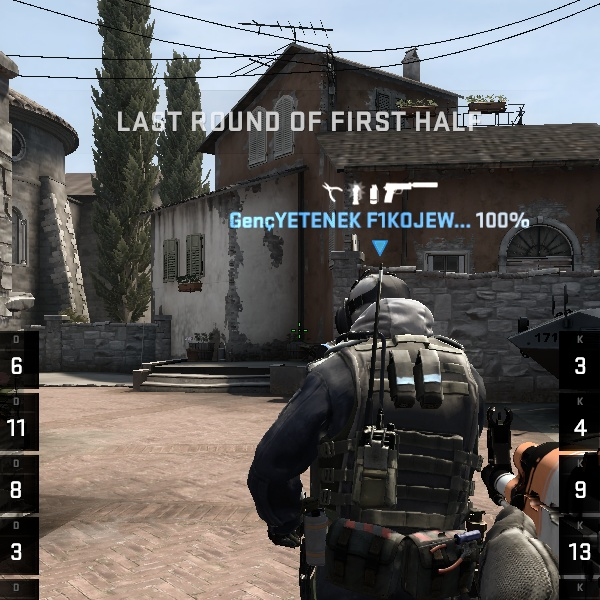ct_body: (260, 276, 543, 599)
ct_head: (329, 260, 428, 354)
